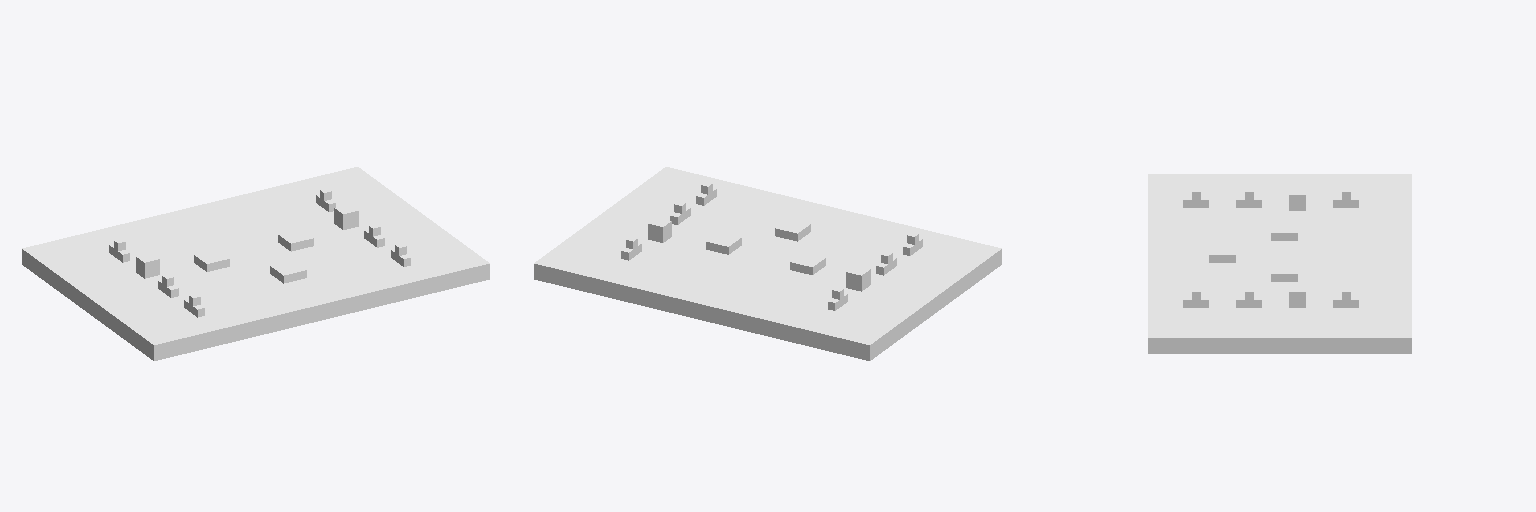
Rendered from diamonds2.obj.
3 renders of one model, left to right at view 1: azimuth 30°, elevation 25°; view 2: azimuth 150°, elevation 25°; view 3: azimuth 270°, elevation 25°, orthographic.
Visible parts, largest first — view 1: object 1; view 2: object 1; view 3: object 1.
Boxes of the visible parts, box(x1,y1,x2,y2) form: object 1: box(22, 167, 489, 360); object 1: box(534, 167, 1001, 360); object 1: box(1148, 174, 1411, 353).
Bounding box in the file's own units: 4.4 × 0.4 × 3.